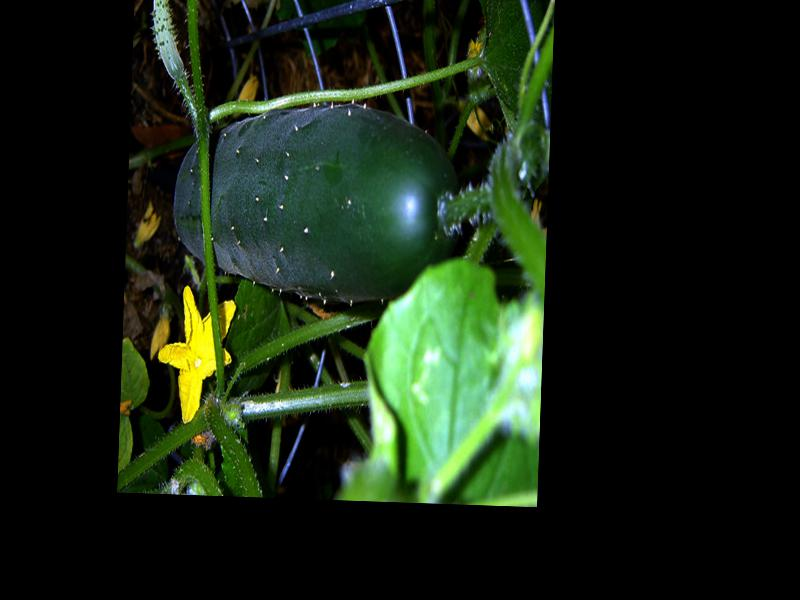Cucumber: (171, 95, 463, 305)
